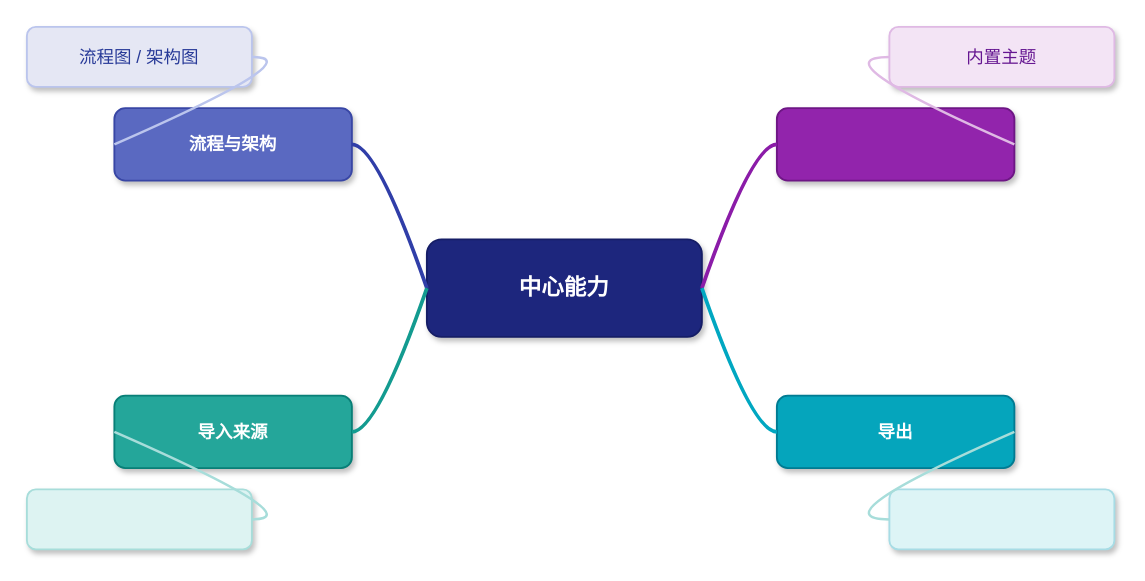
This 1145x581 diagram has some shape labels left out. Each missing label, with the centre of its shape:
"PNG / SVG / PDF" belongs at point 1002,520.
"代码 / IaC / SQL" belongs at point 140,520.
"样式" belongs at point 896,146.
